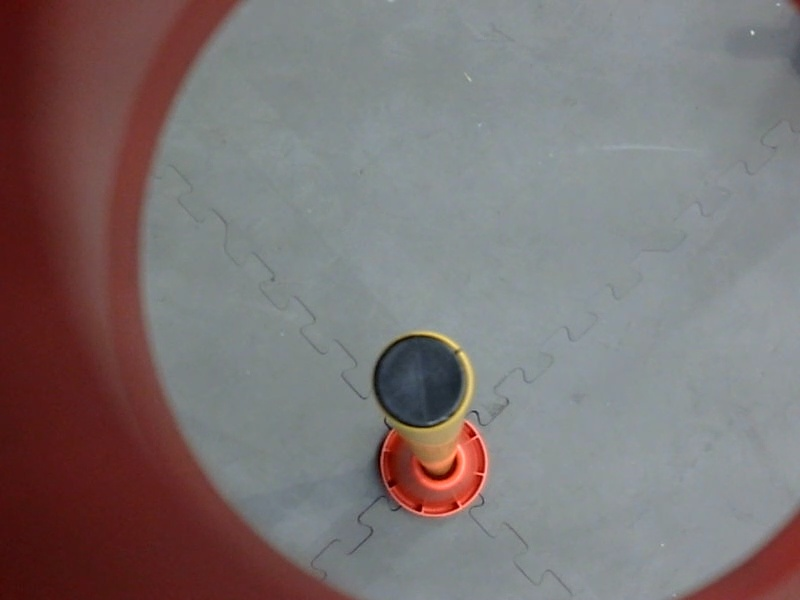tip: (359, 325, 478, 440)
